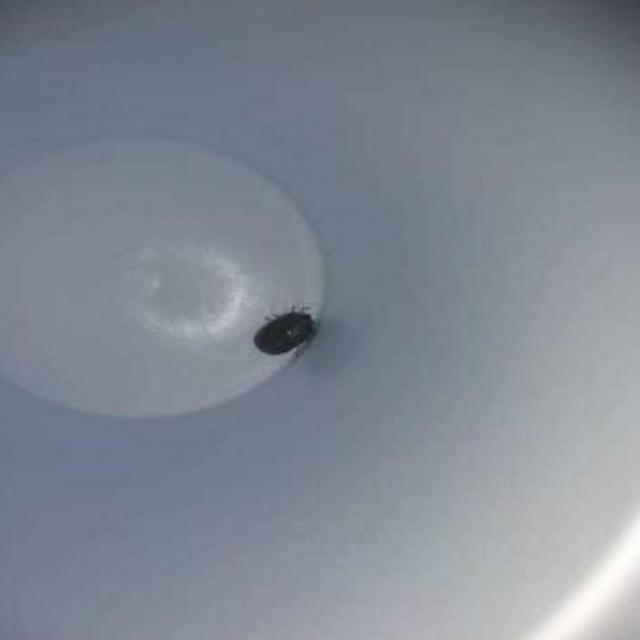Rhipicephalus Sanguineus-F-Fed: (251, 310, 320, 359)
